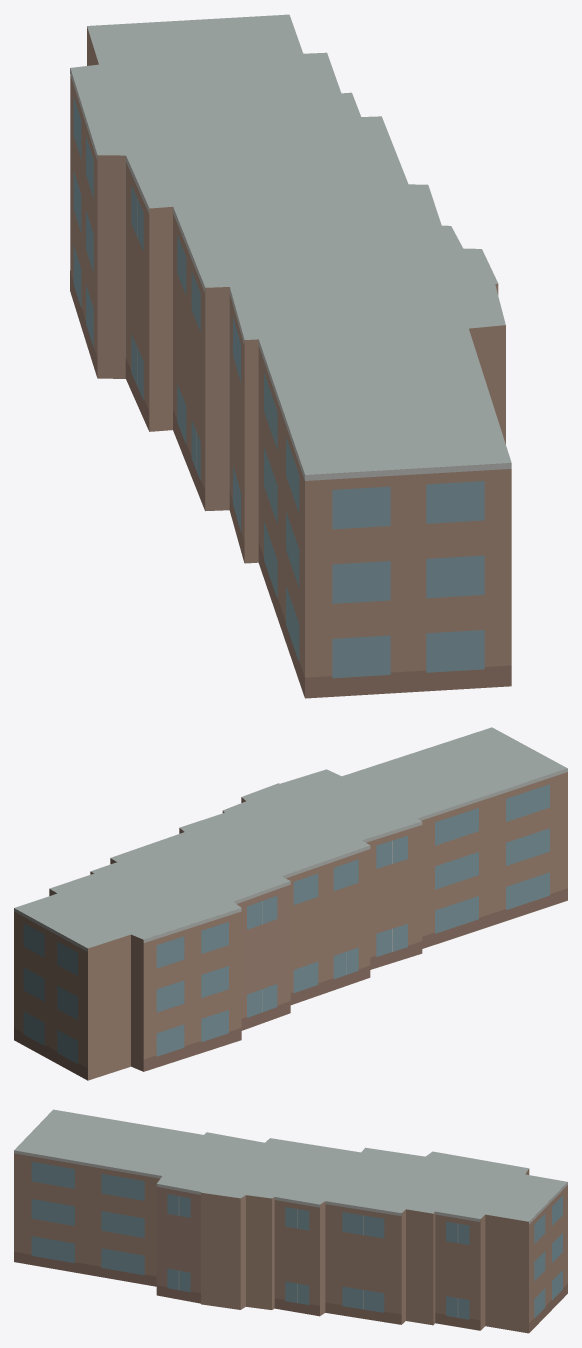
Rendered from survey-upis-32870912.glb.
The picture shows the model from 3 angles, top to bottom: view 1: azimuth 30°, elevation 25°; view 2: azimuth 150°, elevation 25°; view 3: azimuth 270°, elevation 25°; orthographic projection. The views are drawn at different scales.
Parts seen in each view (by area): view 1: survey-upis-32870912.tmp; view 2: survey-upis-32870912.tmp; view 3: survey-upis-32870912.tmp.
Part boxes in pixels (left/top/right/bottom): survey-upis-32870912.tmp: left=70, top=14, right=511, bottom=698; survey-upis-32870912.tmp: left=14, top=727, right=567, bottom=1080; survey-upis-32870912.tmp: left=14, top=1109, right=567, bottom=1333.
Size of the model in its own units: 19.74 by 9.15 by 41.14.
